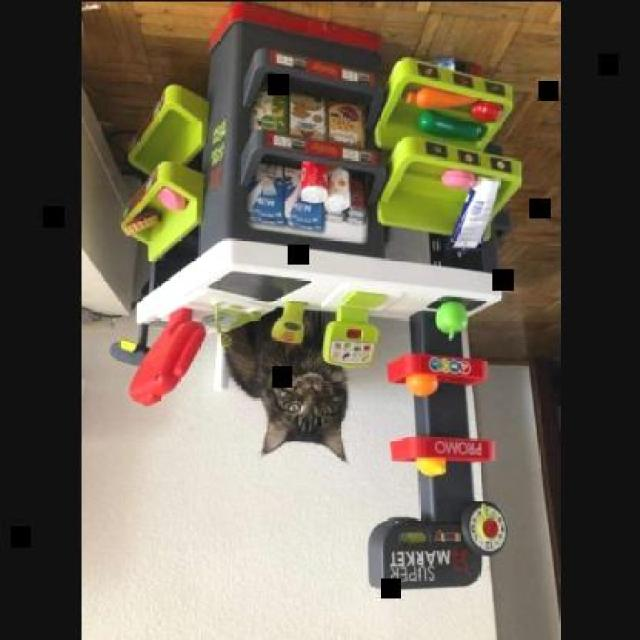unauthorized: (218, 303, 349, 462)
